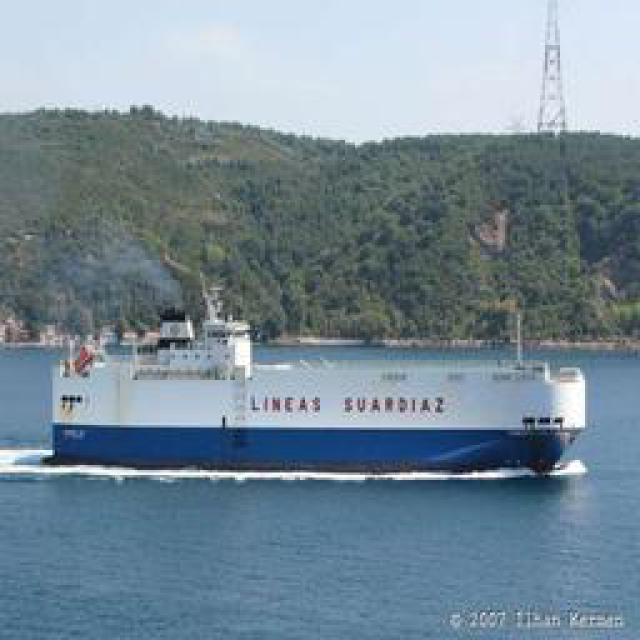Ship: (36, 250, 591, 478)
